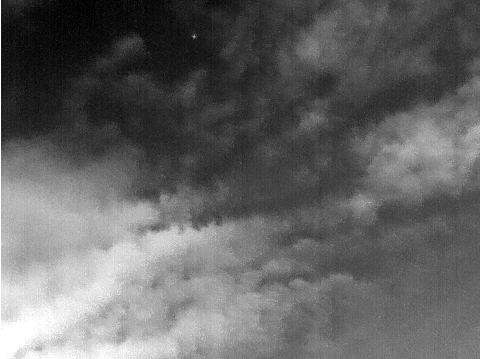dim target: (191, 32, 196, 38)
